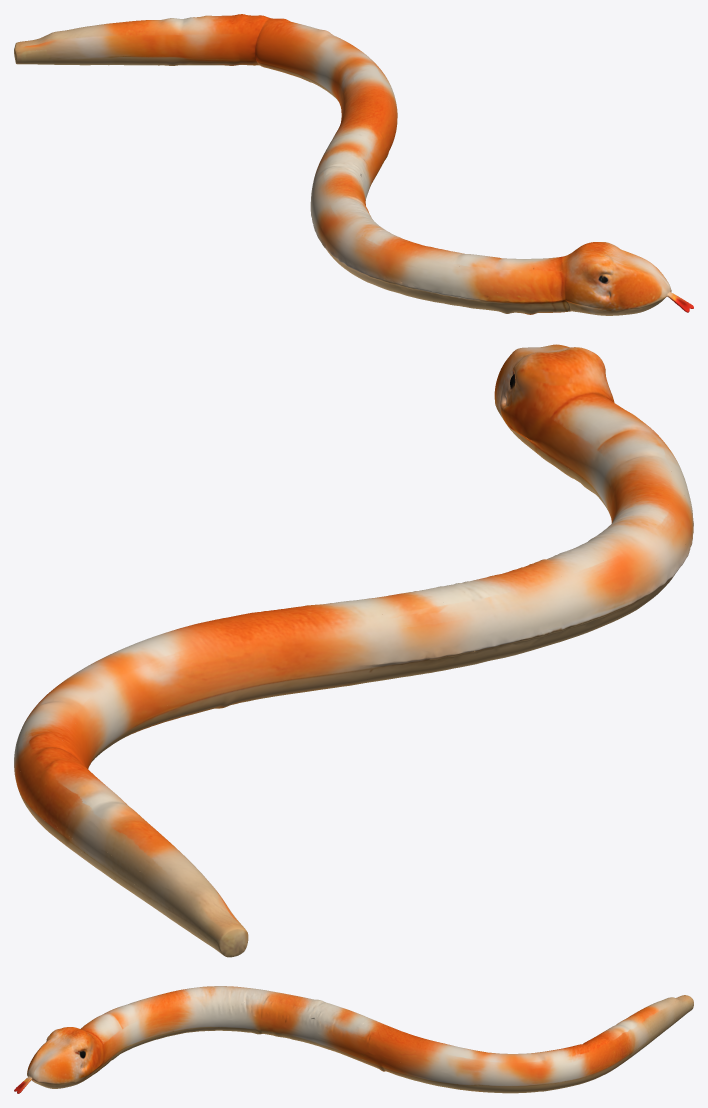
The model's file is Snake.glb.
3 renders of one model, top to bottom at view 1: azimuth 30°, elevation 25°; view 2: azimuth 150°, elevation 25°; view 3: azimuth 270°, elevation 25°, orthographic. The views are drawn at different scales.
Parts seen in each view (by area): view 1: node_0; view 2: node_0; view 3: node_0.
Part boxes in pixels (<box>): node_0: <box>14,14,693,315</box>; node_0: <box>14,344,693,957</box>; node_0: <box>14,986,693,1093</box>.
Bounding box in the file's own units: 0.3768 × 0.0903 × 1.15.
1 material, 1 textured.
